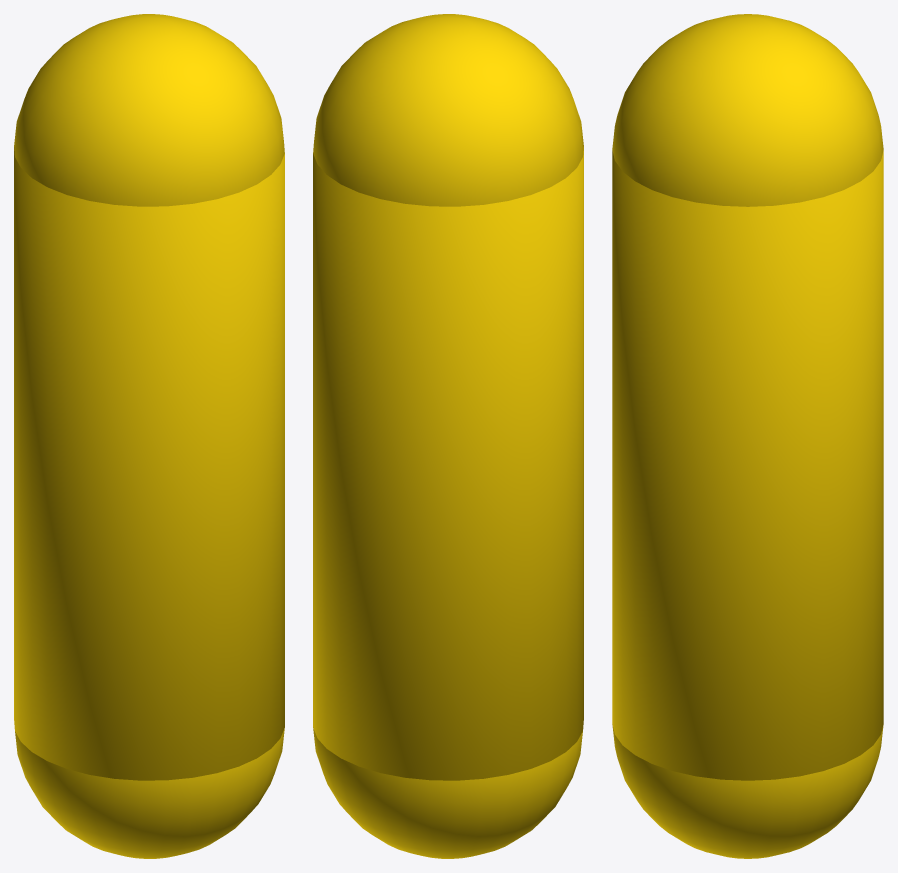
File: arm.dae
3 renders of one model, left to right at view 1: azimuth 30°, elevation 25°; view 2: azimuth 150°, elevation 25°; view 3: azimuth 270°, elevation 25°, orthographic.
Visible parts, largest first — view 1: Cylinder.006, Sphere.001, Sphere; view 2: Cylinder.006, Sphere.001, Sphere; view 3: Cylinder.006, Sphere.001, Sphere.
Part boxes in pixels (x1,y1,x2,y2): Cylinder.006: [14, 147, 284, 780]; Sphere.001: [14, 14, 284, 206]; Sphere: [15, 727, 284, 858]; Cylinder.006: [313, 147, 583, 780]; Sphere.001: [313, 14, 583, 206]; Sphere: [313, 727, 582, 858]; Cylinder.006: [612, 150, 883, 780]; Sphere.001: [612, 14, 883, 206]; Sphere: [612, 724, 883, 858].
Size of the model in its own units: 0.6 by 0.6 by 2.
